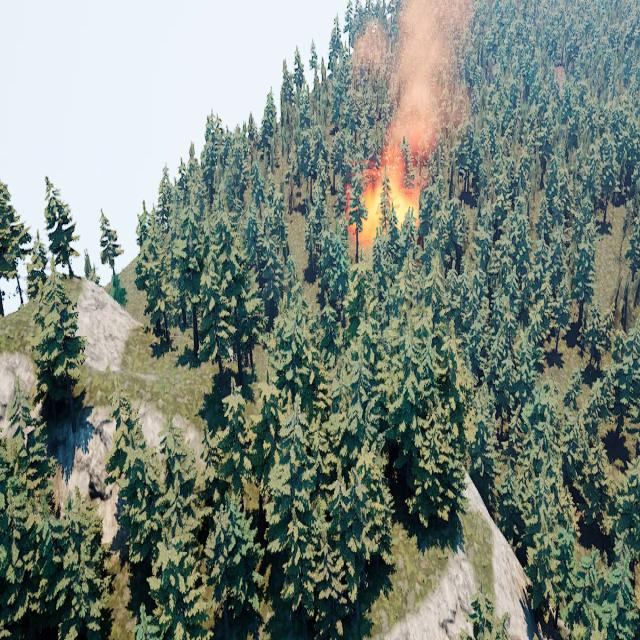fire: (345, 149, 418, 241)
smoke: (352, 0, 474, 174)
